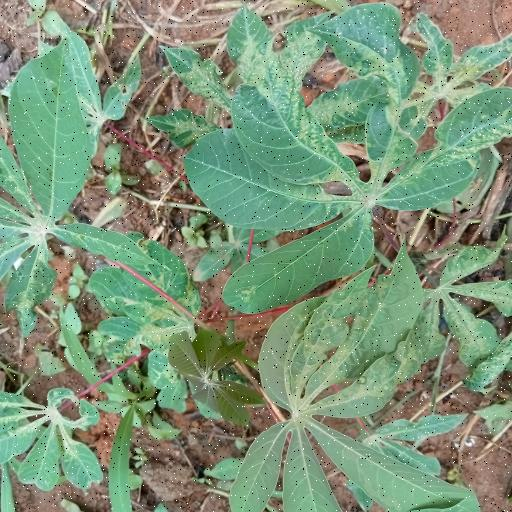Cassava_Mosaic: (182, 56, 458, 297), (244, 307, 455, 512), (0, 46, 92, 317)
